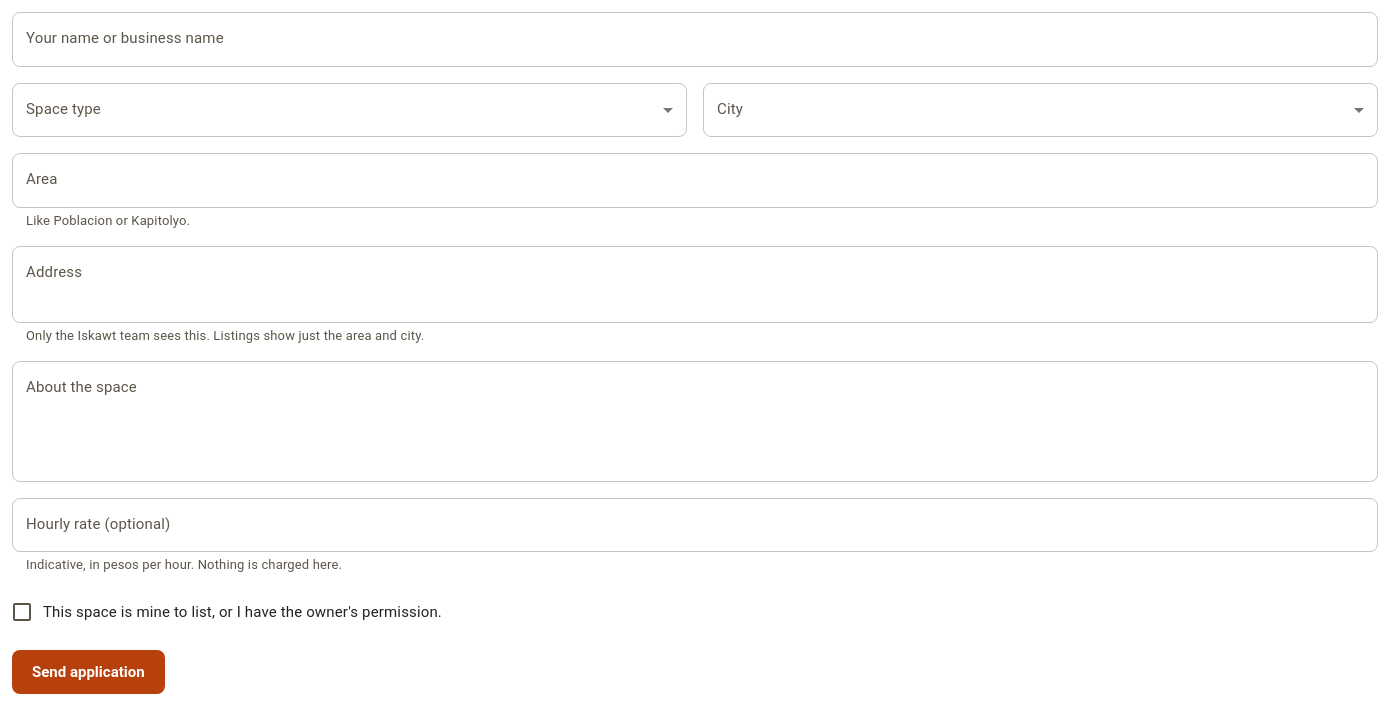
Test: clears a field's error as soon as the user edits that field
Click the button "Send application": (88, 672) [12, 650, 165, 694]
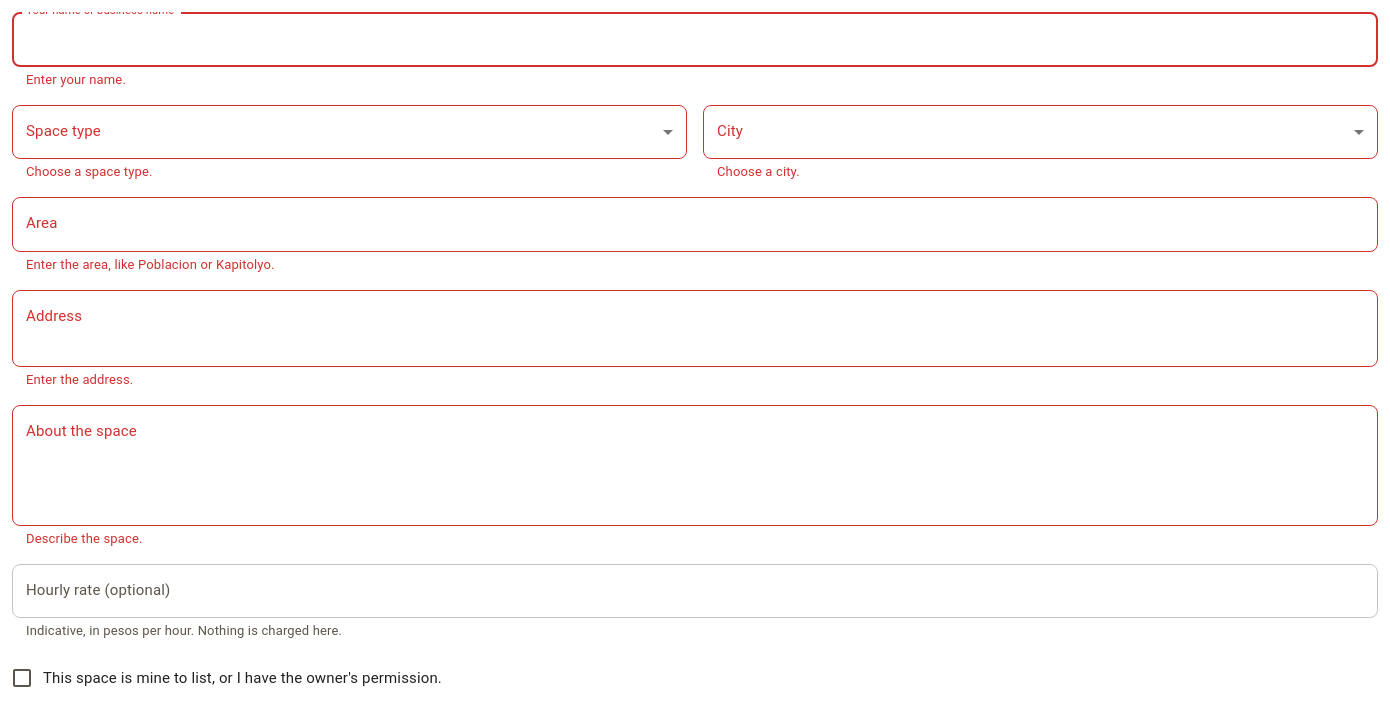
In the field labelled "Your name or business name": (695, 39) [12, 12, 1378, 67], type "D"
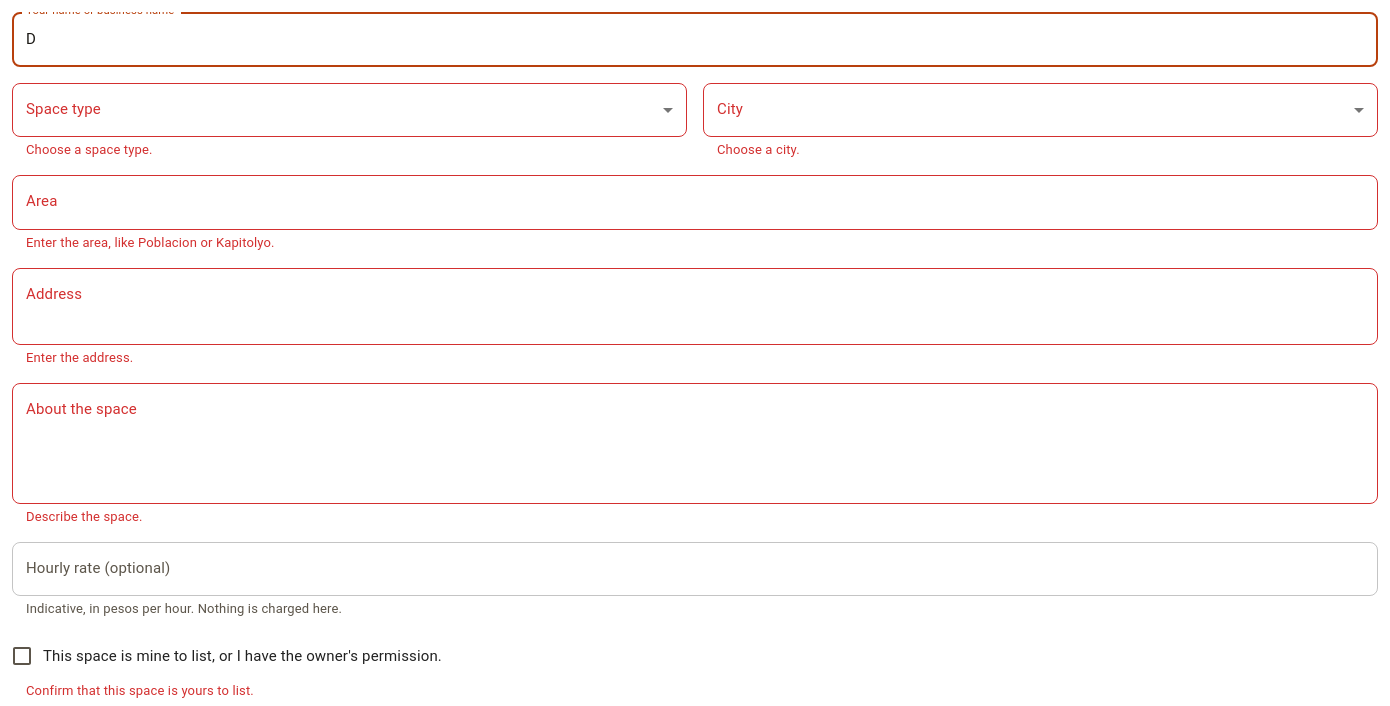
Expected: the text "Choose a city." is shown, [717, 142, 800, 157]
Expected: the text "Enter your name." is gone
